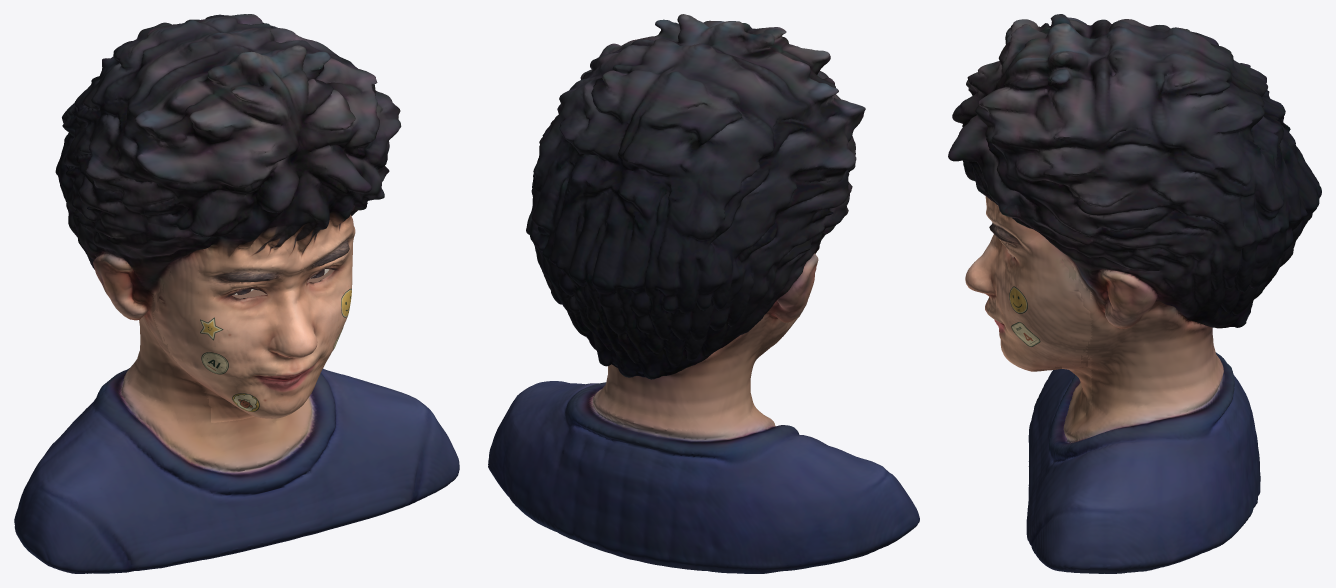
The picture shows the model from 3 angles, left to right: view 1: azimuth 30°, elevation 25°; view 2: azimuth 150°, elevation 25°; view 3: azimuth 270°, elevation 25°; orthographic projection. The views are drawn at different scales.
Visible parts, largest first — view 1: Haoyang_Full3D; view 2: Haoyang_Full3D; view 3: Haoyang_Full3D.
Boxes of the visible parts, x1,y1,x2,y2 form: Haoyang_Full3D: (14, 14, 459, 573); Haoyang_Full3D: (488, 14, 919, 573); Haoyang_Full3D: (948, 14, 1321, 573).
Bounding box in the file's own units: 1.59 × 1.8 × 1.3.
12 materials, 8 textured.
